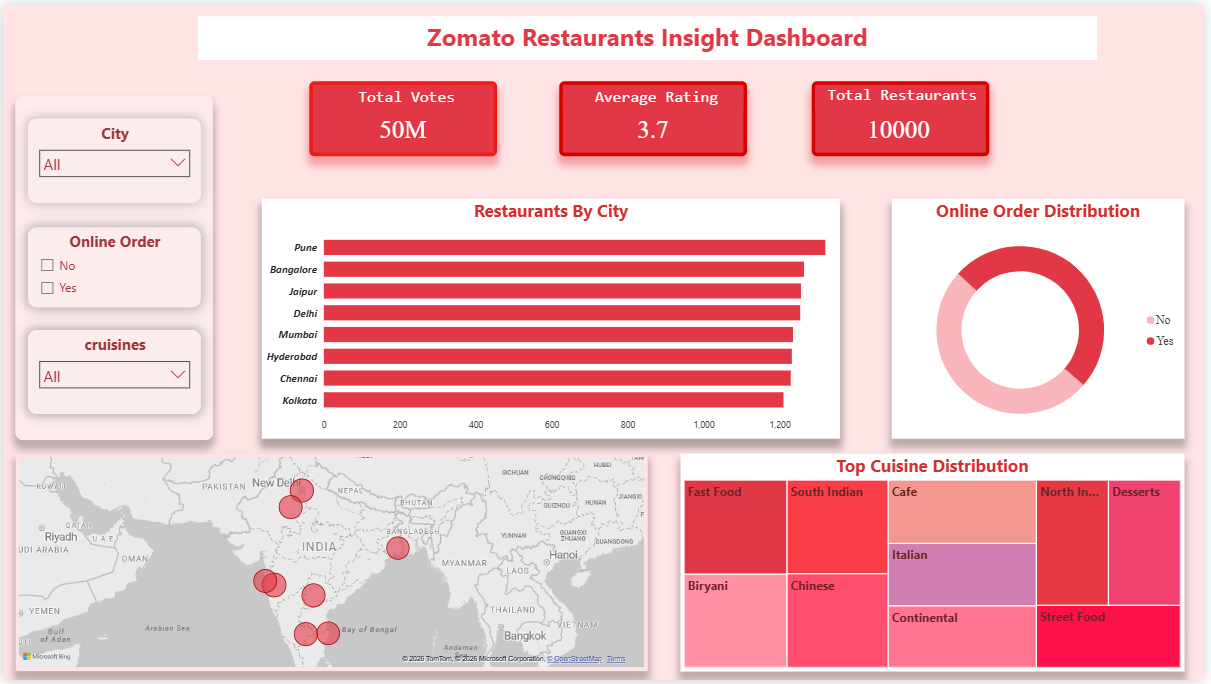

Layout of this report page (visuals, bound fields, positions):
{"tool":"powerbi","page":{"name":"Page 1","canvas":[1600,900],"ordinal":0},"visuals":[{"type":"card","title":"                       Total Restaurants","fields":{"Values":["CountNonNull(zomato_large_dataset.name)"]},"box":[1078.3,101.7,236.7,100],"z":0},{"type":"card","title":"Average Rating","fields":{"Values":["zomato_large_dataset.Average Rating"]},"box":[741.7,101.7,250,100],"z":1000},{"type":"clusteredBarChart","title":"Restaurants By City","fields":{"Category":["zomato_large_dataset.location"],"Y":["CountNonNull(zomato_large_dataset.name)"]},"box":[344.3,258.2,771.6,319.7],"z":2000},{"type":"card","title":"Total Votes","fields":{"Values":["Sum(zomato_large_dataset.votes)"]},"box":[408.3,101.7,250,100],"z":3000},{"type":"donutChart","title":"Online Order Distribution","fields":{"Category":["zomato_large_dataset.online_order"],"Y":["CountNonNull(zomato_large_dataset.name)"]},"box":[1185,258.3,390,320],"z":4000},{"type":"shape","box":[16.9,121.4,262.8,458],"z":5000},{"type":"textbox","box":[260,15,1198.3,58.3],"z":6000},{"type":"slicer","title":"City","fields":{"Values":["zomato_large_dataset.location"]},"box":[33.8,152.2,230.5,112.2],"z":7000},{"type":"slicer","title":"Online Order","fields":{"Values":["zomato_large_dataset.online_order"]},"box":[33.8,296.6,230.5,106.1],"z":8000},{"type":"slicer","title":"cruisines","fields":{"Values":["zomato_large_dataset.cuisines"]},"box":[33.8,433.4,230.5,112.2],"z":9000},{"type":"treemap","title":"Top Cuisine Distribution  ","fields":{"Group":["zomato_large_dataset.cuisines"],"Values":["CountNonNull(zomato_large_dataset.name)"]},"box":[903.3,598.3,671.7,290],"z":10000},{"type":"map","fields":{"Category":["zomato_large_dataset.location"],"Size":["Sum(zomato_large_dataset.votes)"]},"box":[16.7,598.3,843.3,290],"z":10002}]}

Visuals, with their boxes in screenshot pixels (x1, y1, x2, y2), scaled from the page's 1600x900 canvas onto the 1211x684 screenshot:
"                       Total Restaurants" card: [left=816, top=77, right=995, bottom=153]
"Average Rating" card: [left=561, top=77, right=751, bottom=153]
"Restaurants By City" clusteredBarChart: [left=261, top=196, right=845, bottom=439]
"Total Votes" card: [left=309, top=77, right=498, bottom=153]
"Online Order Distribution" donutChart: [left=897, top=196, right=1192, bottom=440]
shape: [left=13, top=92, right=212, bottom=440]
textbox: [left=197, top=11, right=1104, bottom=56]
"City" slicer: [left=26, top=116, right=200, bottom=201]
"Online Order" slicer: [left=26, top=225, right=200, bottom=306]
"cruisines" slicer: [left=26, top=329, right=200, bottom=415]
"Top Cuisine Distribution  " treemap: [left=684, top=455, right=1192, bottom=675]
map - zomato_large_dataset.location x Sum(zomato_large_dataset.votes): [left=13, top=455, right=651, bottom=675]
